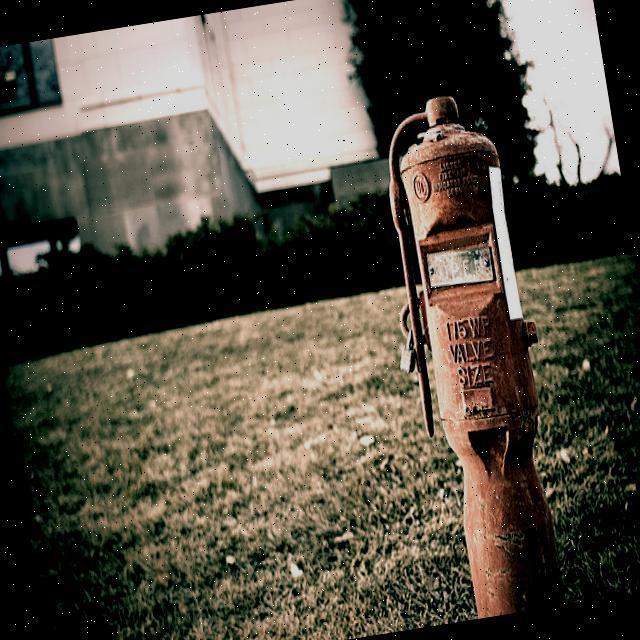fire_hydrant: (362, 85, 584, 624)
